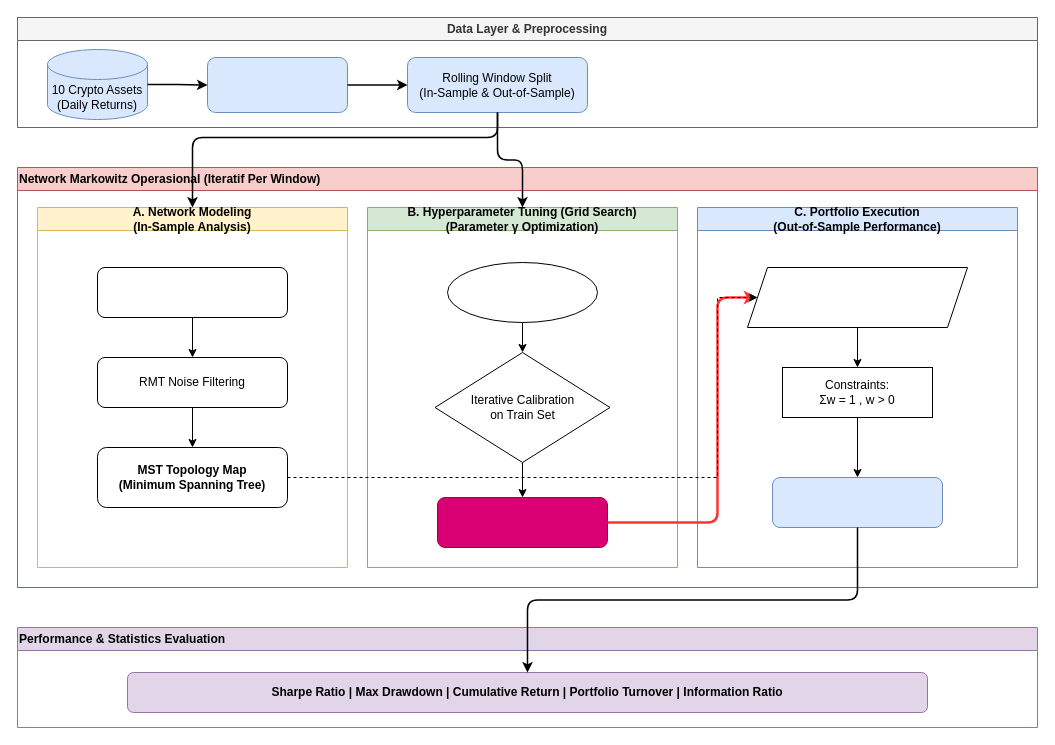
The diagram is 1055 pixels wide and 745 high, and some of its shapes have lost their labels. Here are the shapes that lost their labels. From the top down, the centre of each, then its label:
At point (277, 84): "Data Cleaning & Normalization".
At point (192, 292): "Empirical Correlation Matrix".
At point (522, 292): "Define Penalty Range [γmin ... γmax]".
At point (857, 297): "Network-Constrained Quadratic Programming".
At point (522, 522): "Select Optimal γ* (Best Risk-Adj Return)".
At point (857, 502): "Optimal Weights Injection".
